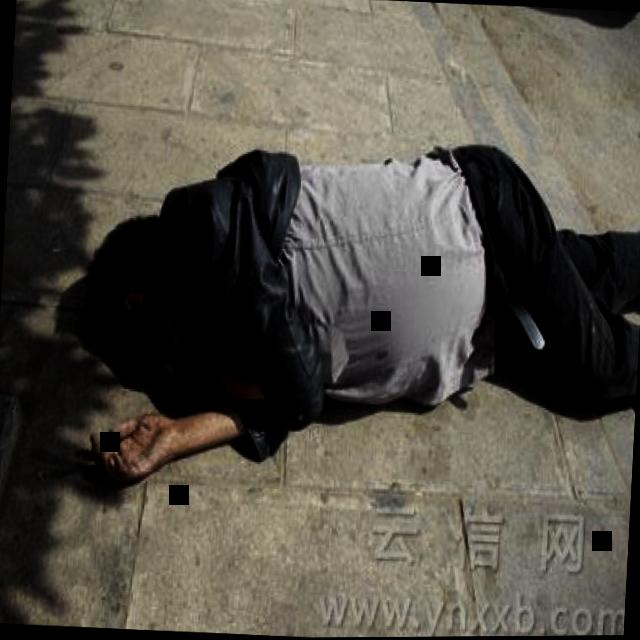Fall-Detected: (45, 95, 640, 531)
